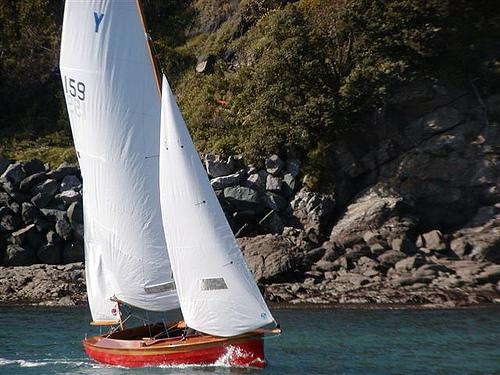Ship: (60, 1, 281, 372)
